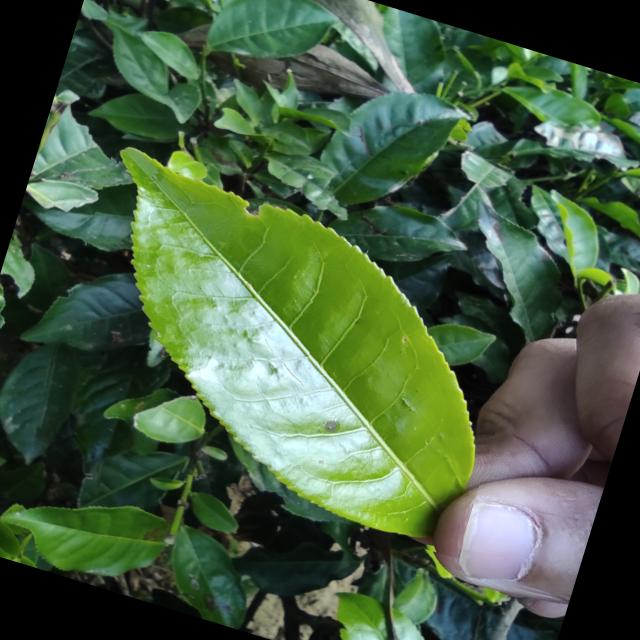Category B 2-4 days: (28, 136, 545, 558)
